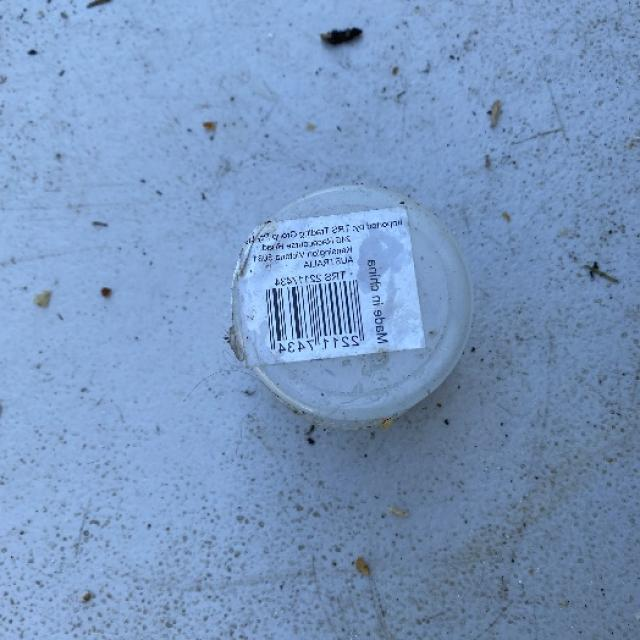inorganic: (233, 178, 473, 428)
